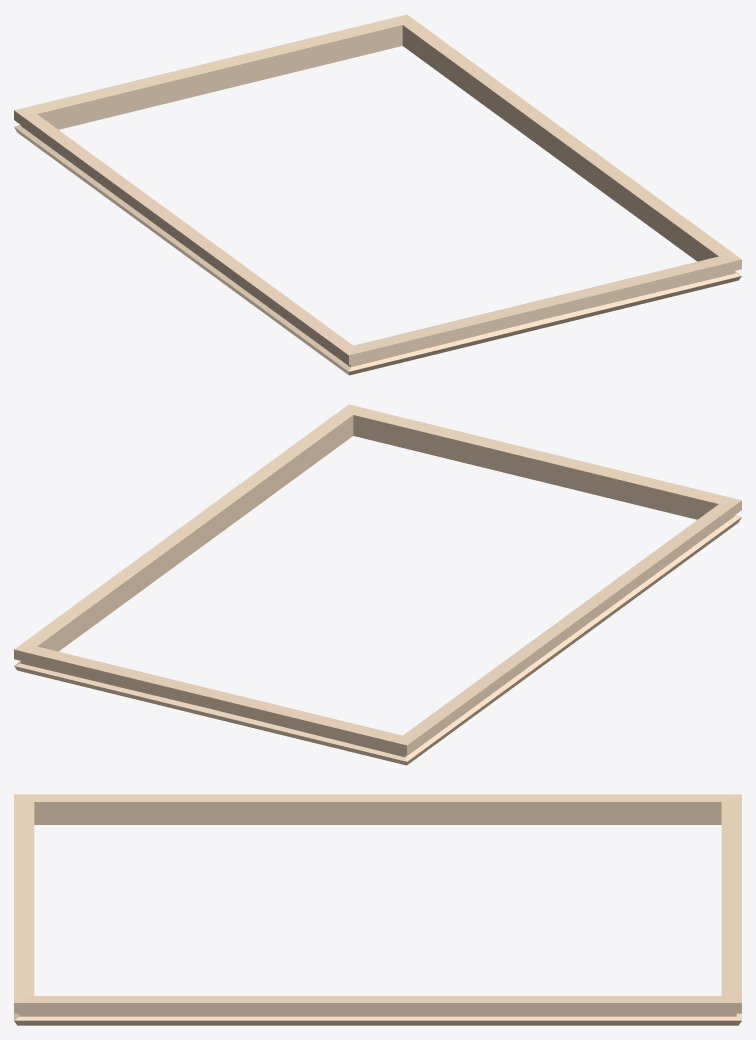
Rendered from Trim02.fbx.
The picture shows the model from 3 angles, top to bottom: view 1: azimuth 30°, elevation 25°; view 2: azimuth 150°, elevation 25°; view 3: azimuth 270°, elevation 25°; orthographic projection. The views are drawn at different scales.
Parts seen in each view (by area): view 1: Trim02; view 2: Trim02; view 3: Trim02.
Boxes of the visible parts, bbox=[...] form: Trim02: bbox=[14, 14, 741, 375]; Trim02: bbox=[14, 404, 741, 765]; Trim02: bbox=[14, 794, 741, 1025].
Bounding box in the file's own units: 765 × 40.25 × 1129.
